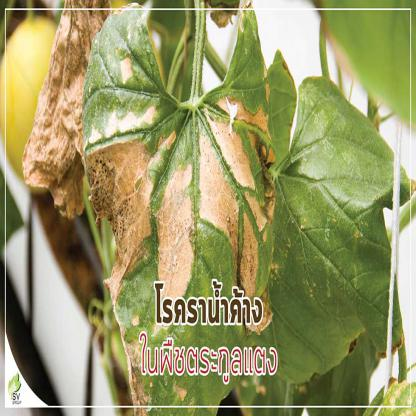DownyMildew: (149, 110, 265, 286), (82, 119, 154, 277)
